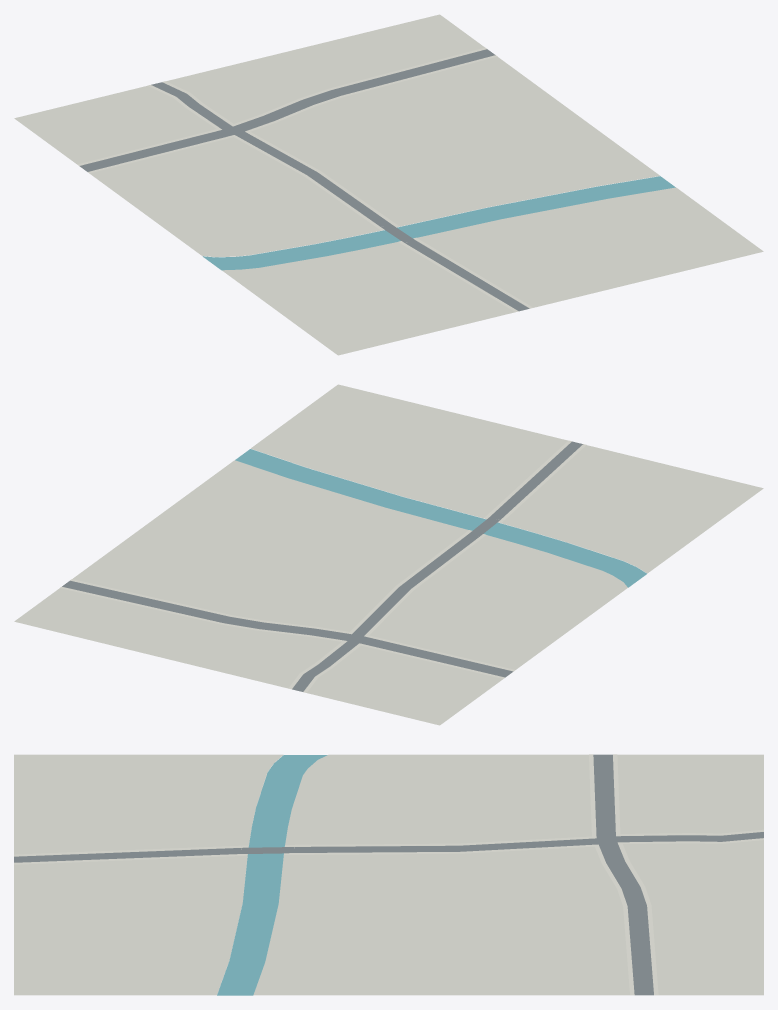
3 renders of one model, top to bottom at view 1: azimuth 30°, elevation 25°; view 2: azimuth 150°, elevation 25°; view 3: azimuth 270°, elevation 25°, orthographic. The views are drawn at different scales.
Visible parts, largest first — view 1: city; view 2: city; view 3: city.
Boxes of the visible parts, x1,y1,x2,y2 form: city: (14,14,763,355); city: (14,384,763,725); city: (14,754,763,995).
Size of the model in its own units: 379 by 0.4 by 500.
